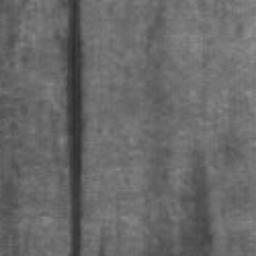Scratches: (67, 0, 89, 256)
